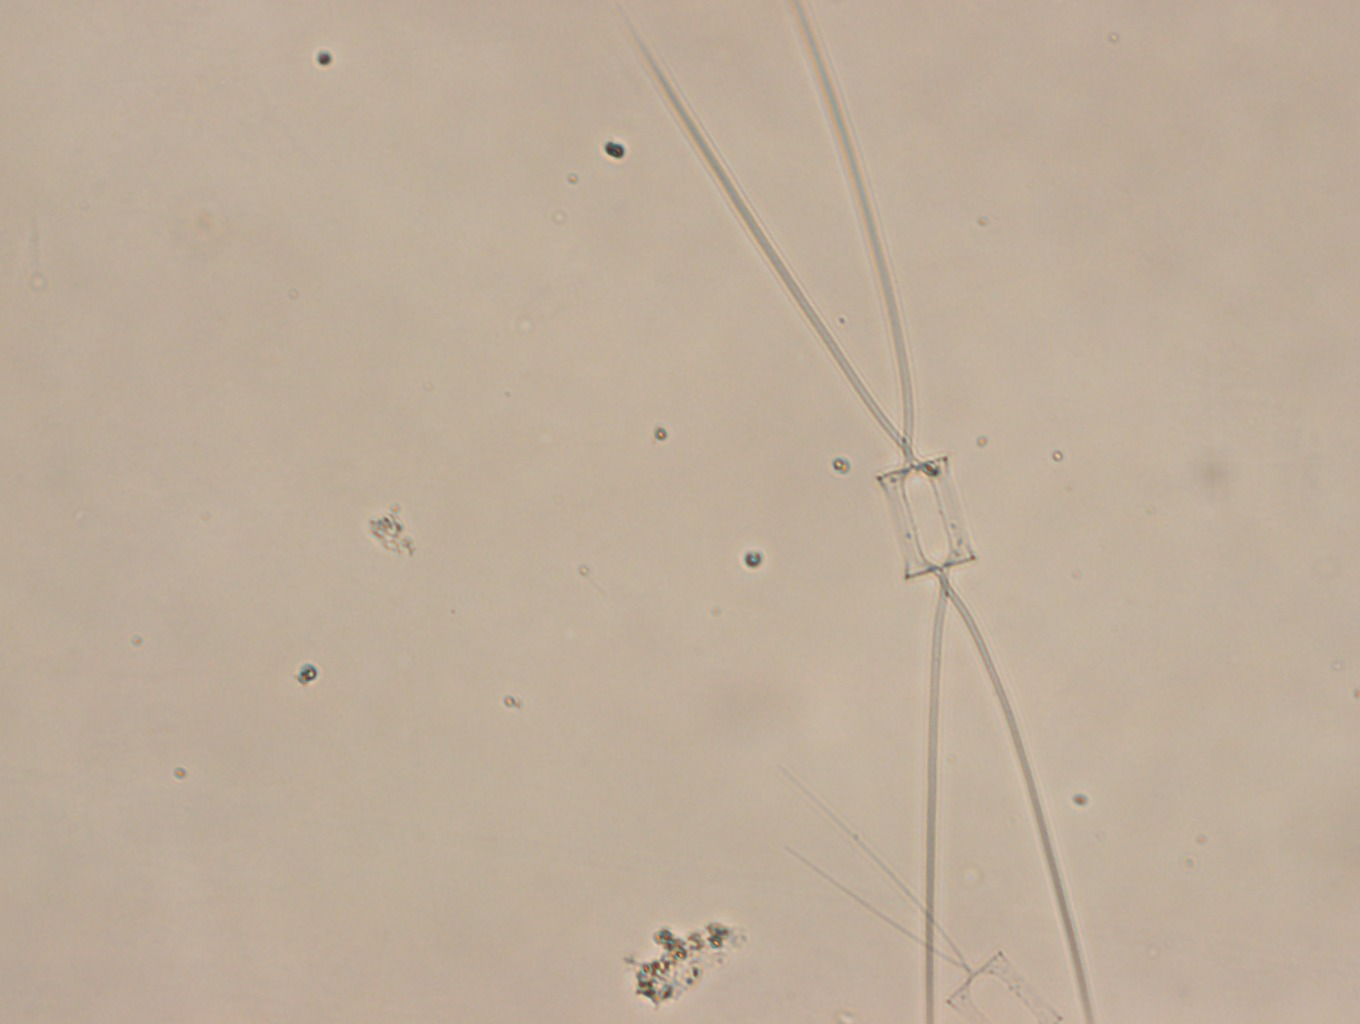chaetoceros: (614, 1, 1096, 1024), (779, 763, 1063, 1024)
